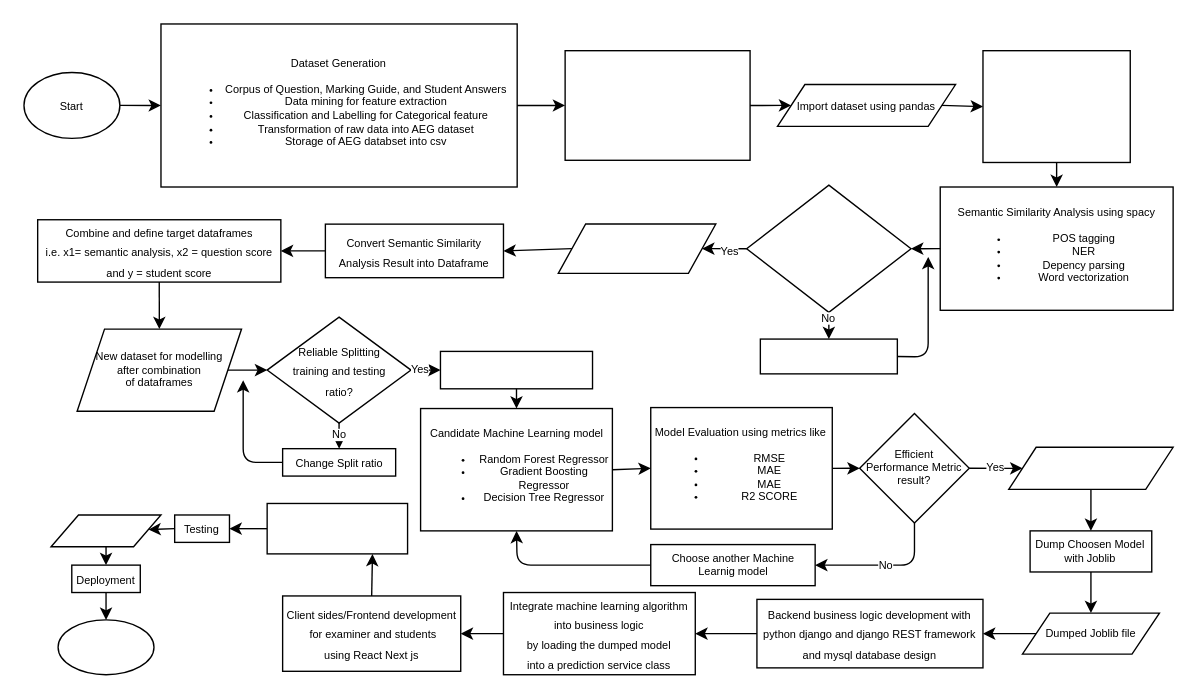
Image size: 1197x699. Some labels were removed from this diagram. Here are the shapes that lost their labels. From the top down, the centre of each, then its label:
At point 657,104: "Python packages installation NLPTK Spacy Scikit-learn".
At point 1056,105: "Test Preprocessing Tokenization Stop word Lemmatization".
At point 636,248: "Optimal Semantic analysis result".
At point 828,248: "Semantic Weight Comparism reliable?".
At point 516,369: "Build Machine learning model".
At point 828,356: "Change Sematic weight".
At point 1090,467: "Choosen Machine Model".
At point 105,530: "IGradingPro".
At point 337,528: "Application Programming Interface Integration".
At point 105,647: "Stop".
